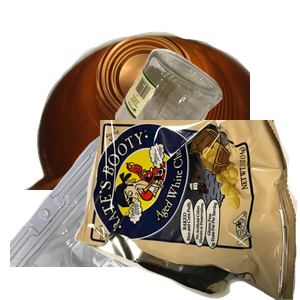glass: (110, 46, 300, 205)
metal: (21, 29, 261, 209)
plastic: (10, 120, 250, 300)
trash: (75, 120, 300, 300)
